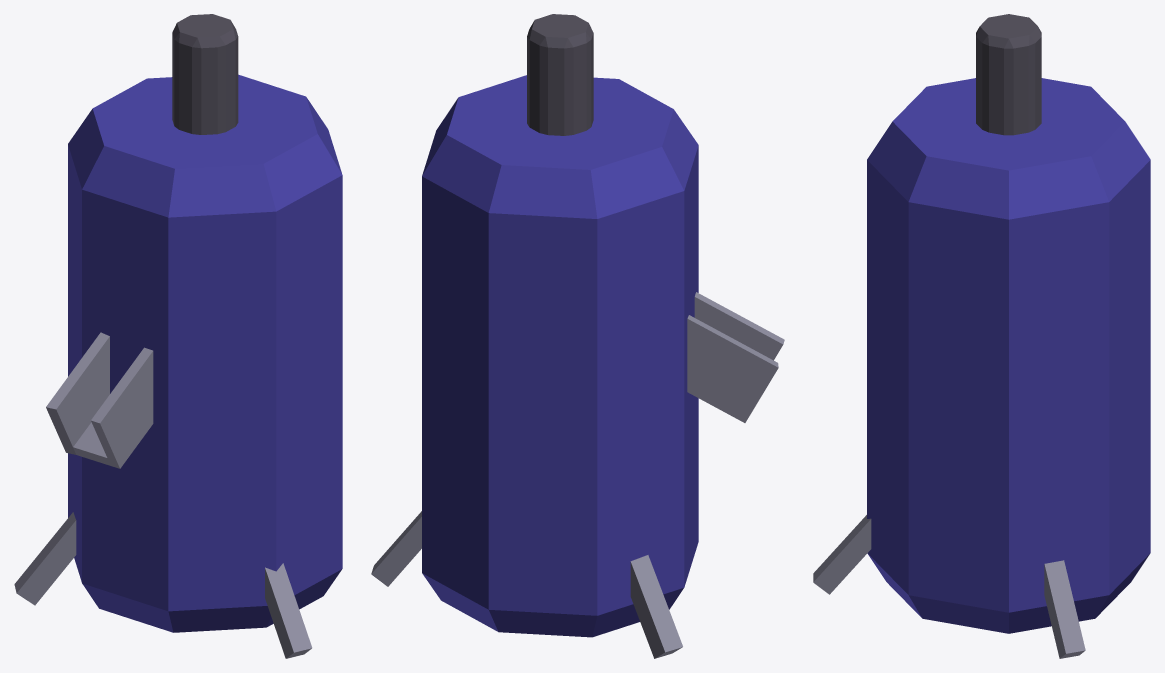
The model's file is basic_miner.glb.
3 views of the same model, side by side, from view 1: azimuth 30°, elevation 25°; view 2: azimuth 150°, elevation 25°; view 3: azimuth 270°, elevation 25° (orthographic).
Visible parts, largest first — view 1: Cylinder, Cube.003, Cube.002, Cube; view 2: Cylinder, Cube.003, Cube.002, Cube.001; view 3: Cylinder, Cube.001, Cube.
Part boxes in pixels (x1=…): Cylinder: x1=68, y1=14, x2=342, y2=632; Cube.003: x1=46, y1=332, x2=153, y2=468; Cube.002: x1=14, y1=512, x2=76, y2=605; Cube: x1=265, y1=563, x2=312, y2=658; Cylinder: x1=422, y1=14, x2=698, y2=637; Cube.003: x1=687, y1=292, x2=784, y2=422; Cube.002: x1=630, y1=555, x2=682, y2=658; Cube.001: x1=371, y1=511, x2=421, y2=586; Cylinder: x1=867, y1=14, x2=1150, y2=633; Cube.001: x1=1044, y1=560, x2=1085, y2=658; Cube: x1=813, y1=515, x2=871, y2=594.
Bounding box in the file's own units: 2.8 × 4.4 × 2.38.
